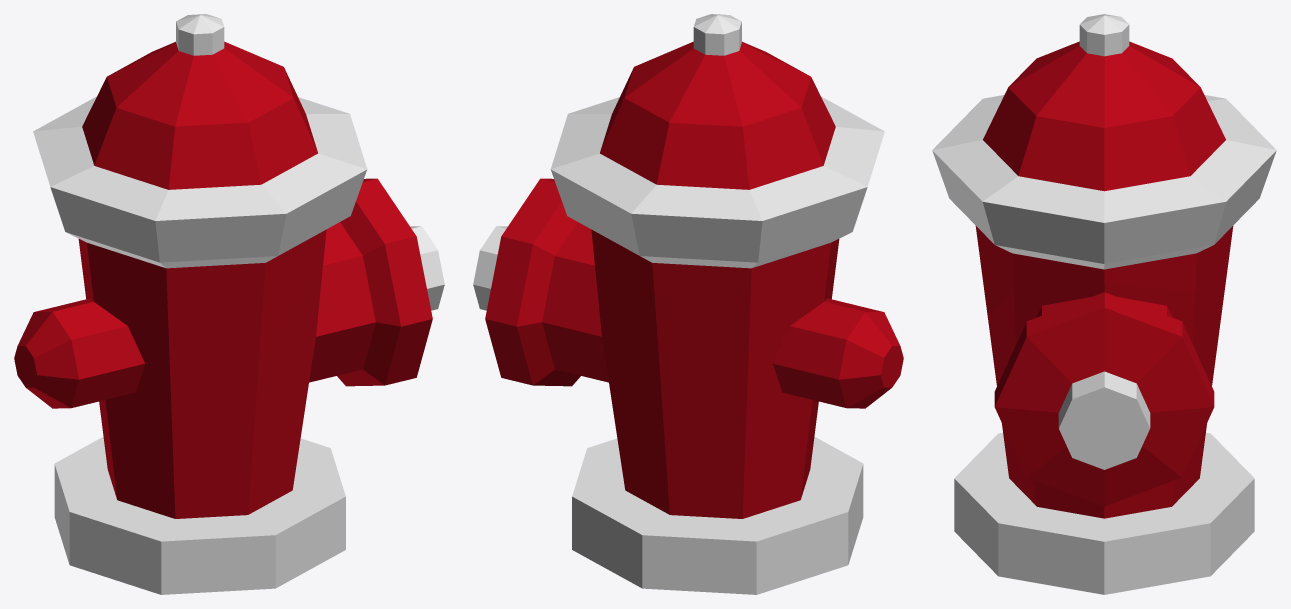
Rendered from Hydrant 1 Fractured.fbx.
3 views of the same model, side by side, from view 1: azimuth 30°, elevation 25°; view 2: azimuth 150°, elevation 25°; view 3: azimuth 270°, elevation 25° (orthographic).
Visible parts, largest first — view 1: Hydrant_01_Breaking, Hydrant_01_Breaking.001; view 2: Hydrant_01_Breaking, Hydrant_01_Breaking.001; view 3: Hydrant_01_Breaking.001, Hydrant_01_Breaking.
Boxes of the visible parts, <box> form: Hydrant_01_Breaking: <box>14,14,367,412</box>; Hydrant_01_Breaking.001: <box>54,178,444,594</box>; Hydrant_01_Breaking: <box>550,14,903,412</box>; Hydrant_01_Breaking.001: <box>473,178,863,594</box>; Hydrant_01_Breaking.001: <box>954,282,1254,594</box>; Hydrant_01_Breaking: <box>932,14,1276,314</box>.
Size of the model in its own units: 50.45 by 63.05 by 38.16.
